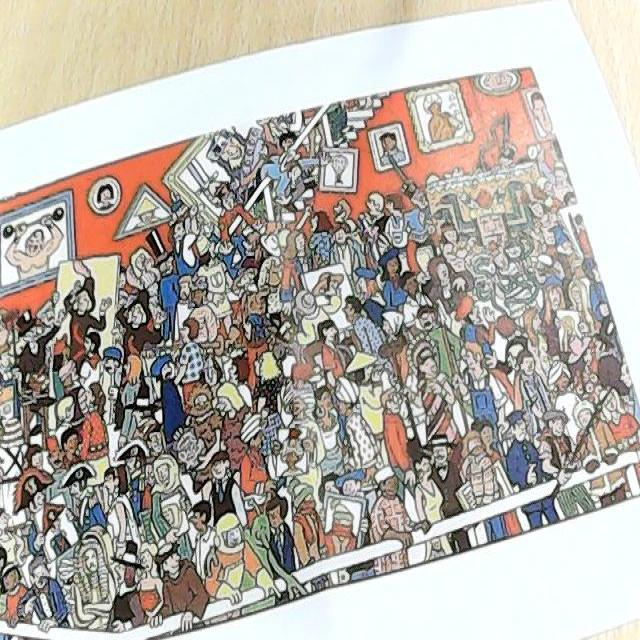waldo: (139, 423, 169, 457)
